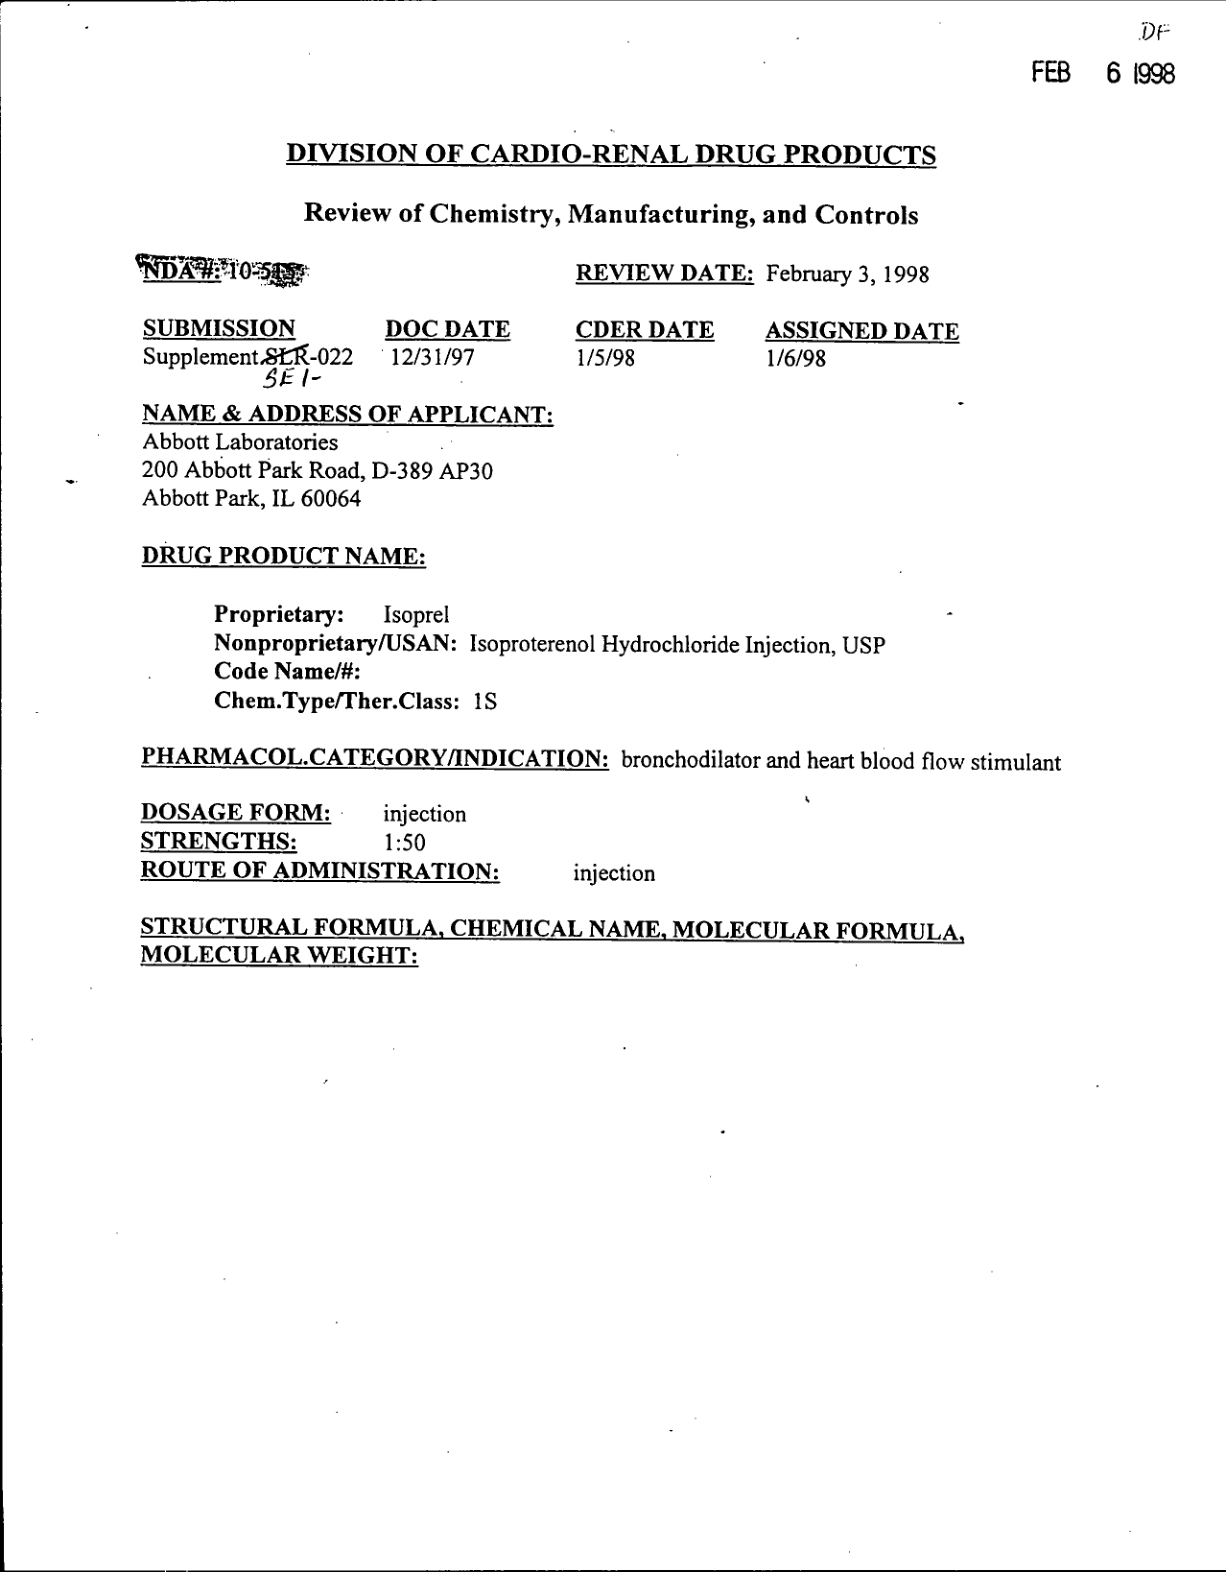nolines: (140, 313, 964, 369)
